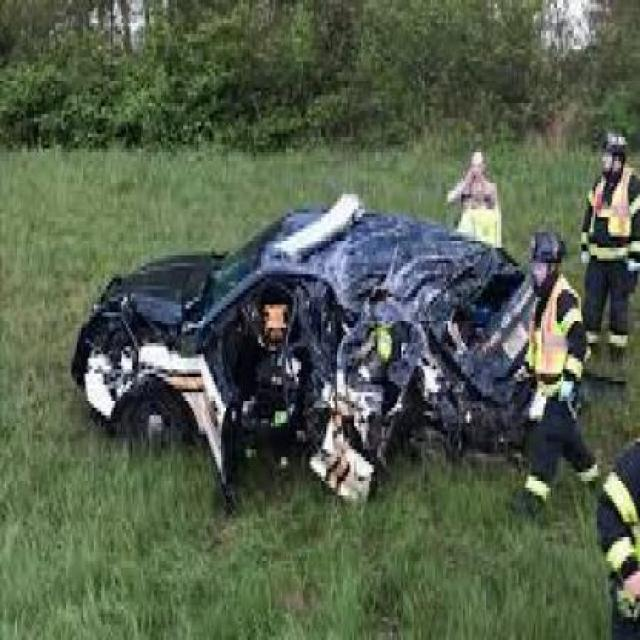accident: (57, 199, 575, 518)
